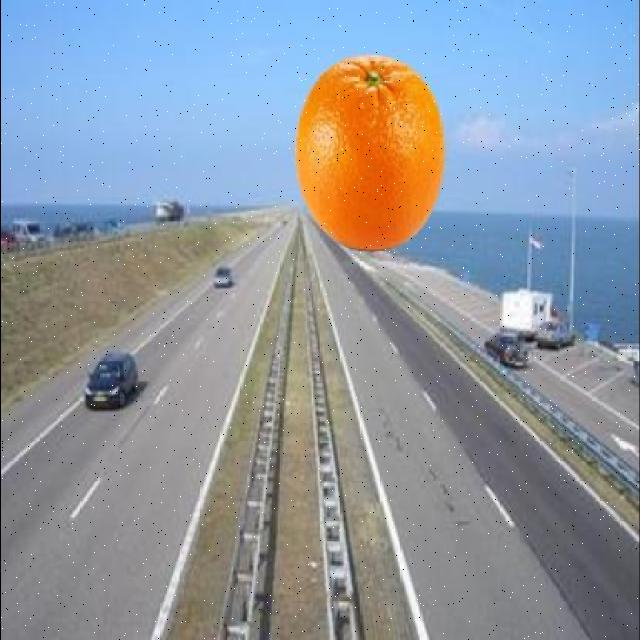Orange: (294, 52, 446, 250)
